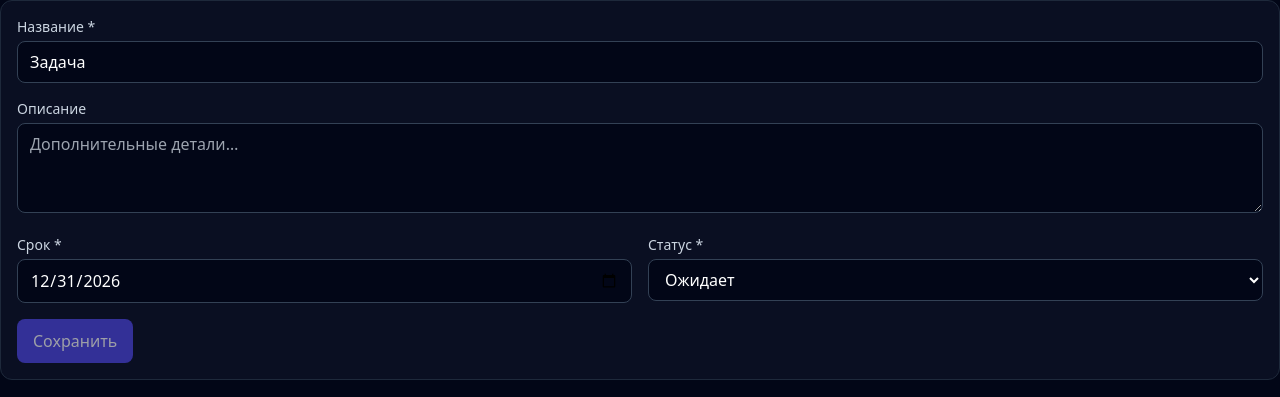
Test: TaskForm › снова блокирует кнопку сохранения, если значения возвращены к исходным
Replace the text in the field with id "task-title" with "Другое название" at (640, 62), box [17,41,1263,83]
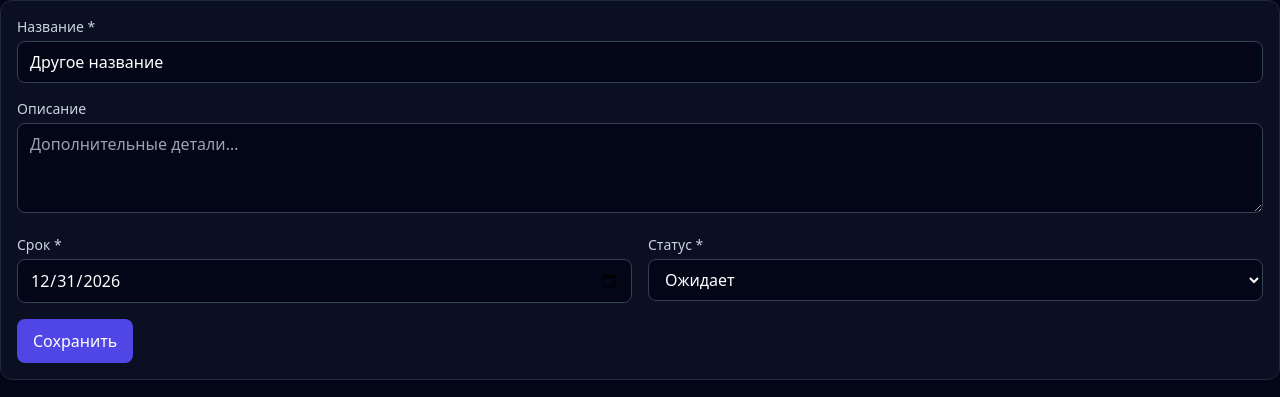
Expected: the submit button is enabled, [17,319,133,363]
Replace the text in the field with id "task-title" with "Задача" at (640, 62), box [17,41,1263,83]
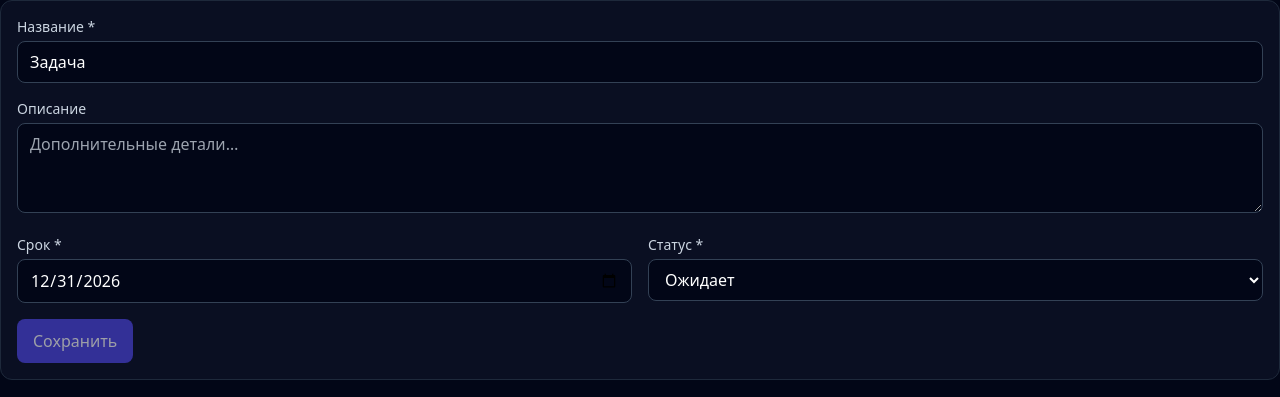
Expected: the submit button is disabled, [17,319,133,363]
